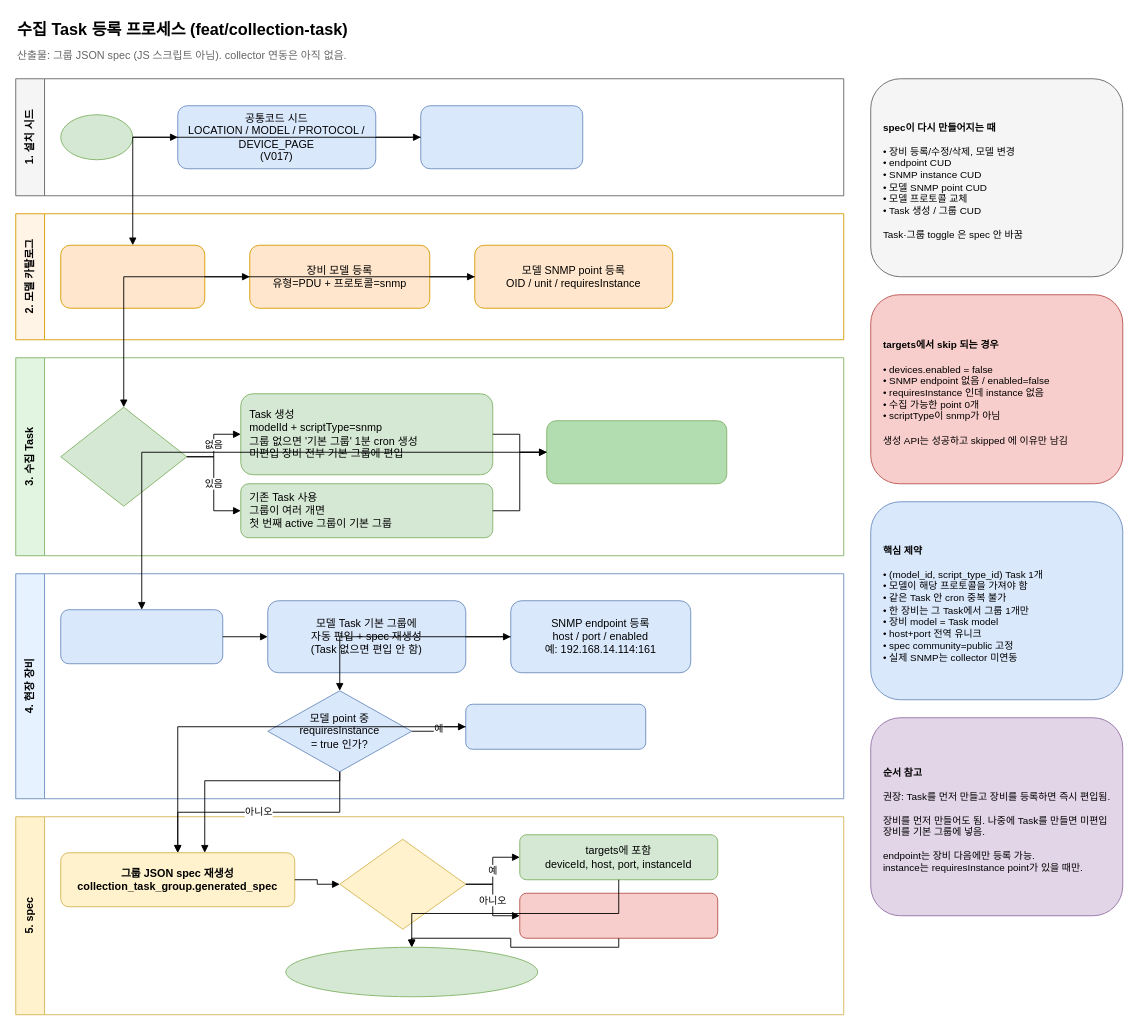
This 1139x1031 diagram has some shape labels left out. The centre of each missing label's shape, as x and y in pixels:
"device_snmp_instance 등록" belongs at point 555,726.
"skipped에 이유 기록 Task 생성은 실패하지 않음" belongs at point 618,915.
"Task 준비됨 모델 1 + 프로토콜 1 = Task 1" belongs at point 636,452.
"시작" belongs at point 96,137.
"위치 UNASSIGNED 노드 (V004 시드)" belongs at point 501,137.
"위치 트리 등록 ZONE / RACK 등" belongs at point 132,276.
"이 모델의 SNMP Task가 이미 있나?" belongs at point 123,456.
"이 장비가 targets에 들어가나?" belongs at point 402,883.
"장비 등록 devices (model + location)" belongs at point 141,636.
"종료 spec은 DB에만 저장. collector 등록은 아직 없음" belongs at point 411,971.
